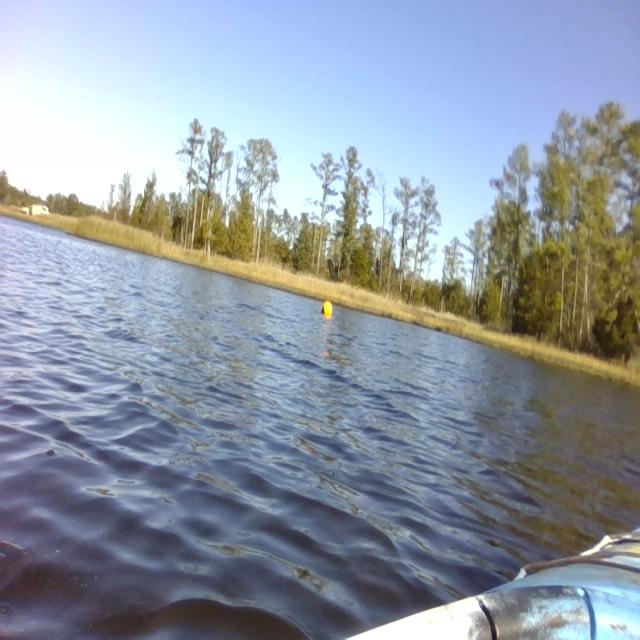Buoy: (318, 298, 334, 320)
